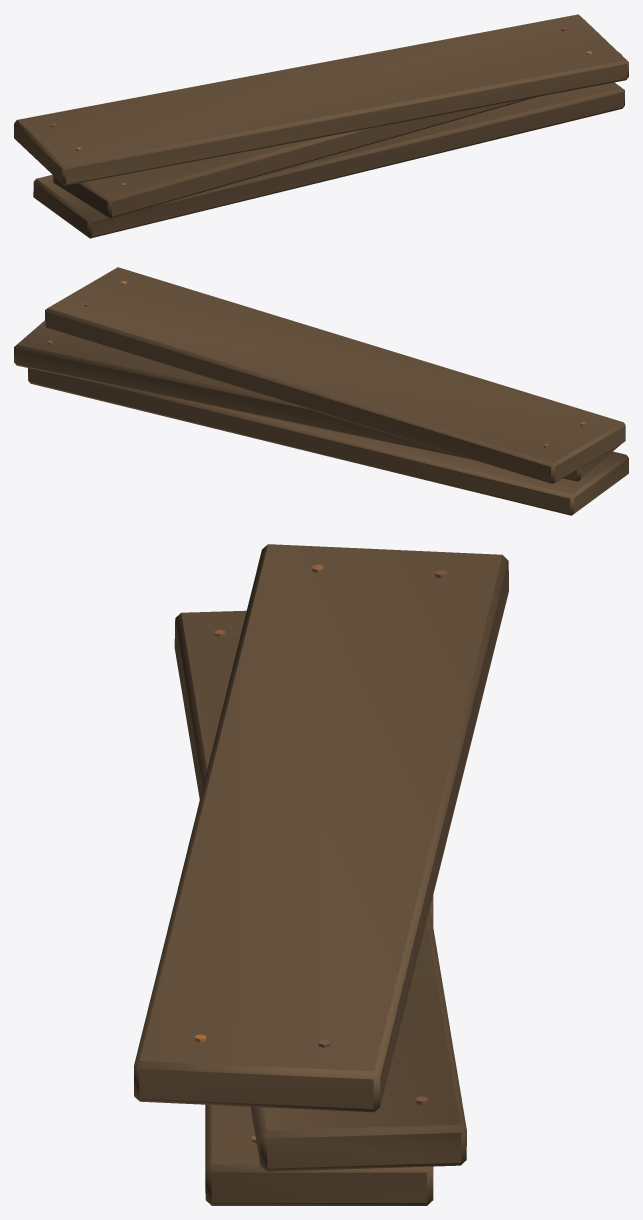
Rendered from wood-plank.glb.
The picture shows the model from 3 angles, top to bottom: view 1: azimuth 30°, elevation 25°; view 2: azimuth 150°, elevation 25°; view 3: azimuth 270°, elevation 25°; orthographic projection. The views are drawn at different scales.
Visible parts, largest first — view 1: wood-plank; view 2: wood-plank; view 3: wood-plank.
Part boxes in pixels (<box>): wood-plank: <box>14,14,628,238</box>; wood-plank: <box>14,267,628,515</box>; wood-plank: <box>134,544,508,1205</box>.
Bounding box in the file's own units: 0.6249 × 0.0718 × 0.1814.
